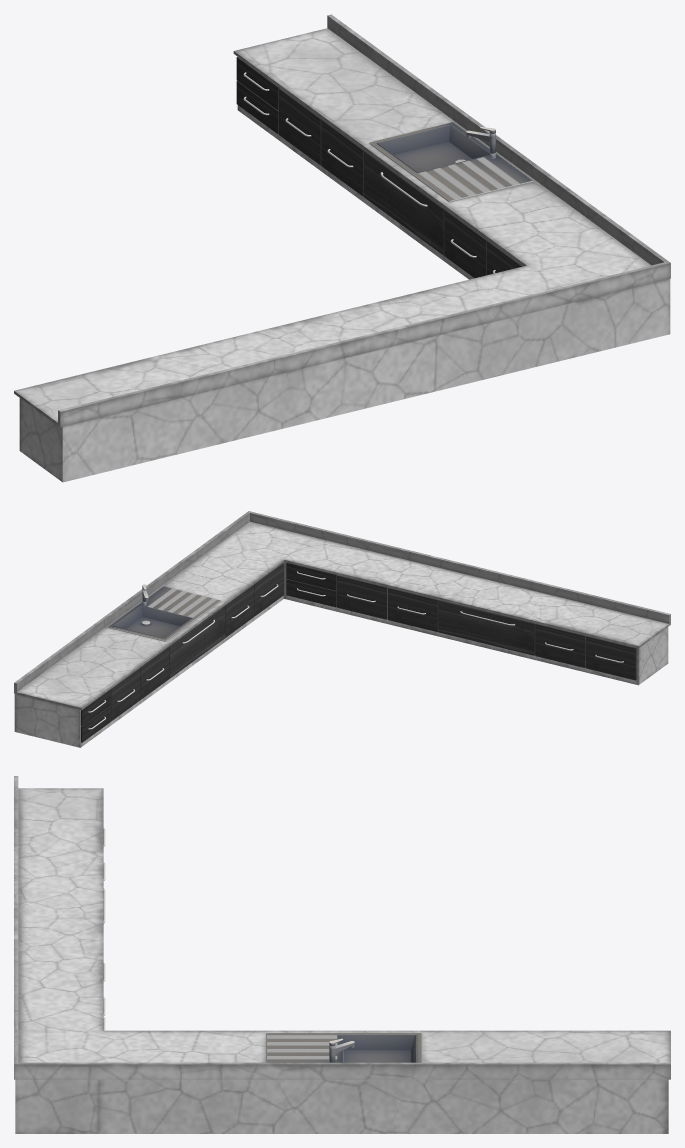
Rendered from M_Kabinet Dapur.fbx.
3 views of the same model, one above another, from view 1: azimuth 30°, elevation 25°; view 2: azimuth 150°, elevation 25°; view 3: azimuth 270°, elevation 25° (orthographic). The views are drawn at different scales.
Parts seen in each view (by area): view 1: rak; view 2: rak; view 3: rak.
Part boxes in pixels (<box>): rak: <box>14,14,670,482</box>; rak: <box>14,511,670,747</box>; rak: <box>14,776,670,1133</box>.
Size of the model in its own units: 522 by 72.07 by 503.
